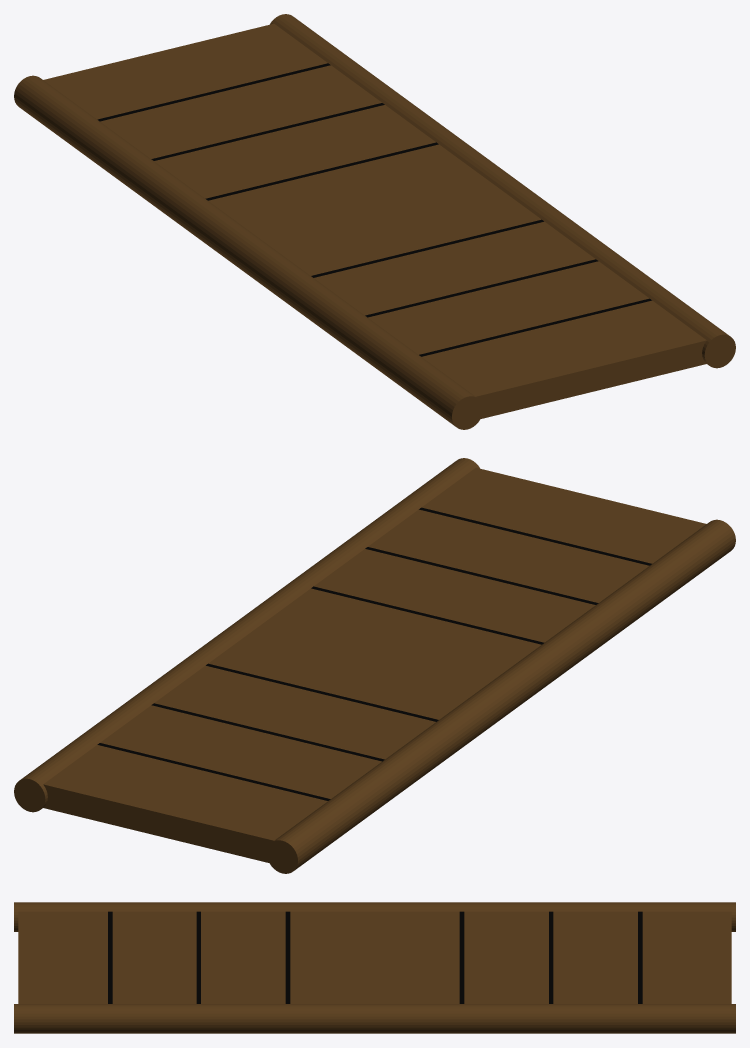
File: basicBridge.fbx
3 views of the same model, one above another, from view 1: azimuth 30°, elevation 25°; view 2: azimuth 150°, elevation 25°; view 3: azimuth 270°, elevation 25° (orthographic). The views are drawn at different scales.
Visible parts, largest first — view 1: Cube.001, Cylinder.001, Cylinder; view 2: Cube.001, Cylinder.001, Cylinder; view 3: Cube.001, Cylinder, Cylinder.001.
Boxes of the visible parts, x1,y1,x2,y2 form: Cube.001: [43, 23, 706, 418]; Cylinder.001: [14, 75, 483, 429]; Cylinder: [270, 14, 735, 368]; Cube.001: [43, 467, 706, 862]; Cylinder.001: [266, 519, 735, 873]; Cylinder: [14, 458, 479, 812]; Cube.001: [18, 911, 731, 1003]; Cylinder: [14, 1004, 735, 1033]; Cylinder.001: [14, 902, 735, 931].
Size of the model in its own units: 225 by 24.81 by 600.
